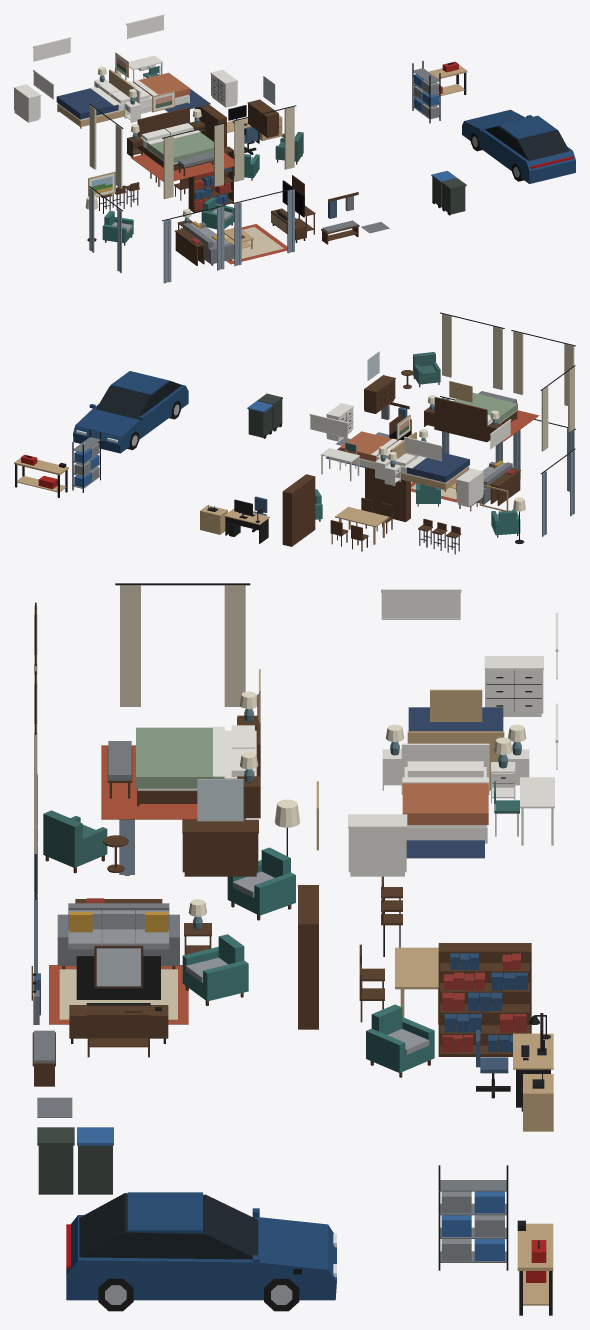
The model's file is furniture.glb.
3 renders of one model, top to bottom at view 1: azimuth 30°, elevation 25°; view 2: azimuth 150°, elevation 25°; view 3: azimuth 270°, elevation 25°, orthographic. The views are drawn at different scales.
Visible parts, largest first — view 1: Furn_living, Furn_car, Furn_curtains_1, Furn_bed_1, Furn_bed_2, Furn_hall, Furn_bookcase, Furn_bed_3, Furn_shelving, Furn_bins, Furn_blinds_2, Furn_rug_1 (+19 smaller); view 2: Furn_car, Furn_curtains_1, Furn_living, Furn_bed_1, Furn_dining, Furn_bed_2, Furn_study_bookcase, Furn_bookcase, Furn_shelving, Furn_bins, Furn_workbench, Furn_bed_3 (+15 smaller); view 3: Furn_car, Furn_living, Furn_study_bookcase, Furn_bed_3, Furn_bed_1, Furn_curtains_1, Furn_hall, Furn_shelving, Furn_bins, Furn_dresser_1, Furn_dining, Furn_dresser_3 (+19 smaller).
Part boxes in pixels (left/top/right/bottom): Furn_living: left=88, top=171, right=296, bottom=283; Furn_car: left=462, top=109, right=575, bottom=183; Furn_curtains_1: left=89, top=103, right=296, bottom=198; Furn_bed_1: left=137, top=107, right=213, bottom=170; Furn_bed_2: left=56, top=69, right=134, bottom=128; Furn_hall: left=292, top=175, right=389, bottom=244; Furn_bookcase: left=188, top=146, right=233, bottom=212; Furn_bed_3: left=118, top=72, right=190, bottom=113; Furn_shelving: left=412, top=61, right=440, bottom=123; Furn_bins: left=431, top=170, right=466, bottom=215; Furn_blinds_2: left=33, top=37, right=71, bottom=99; Furn_rug_1: left=130, top=152, right=234, bottom=181; Furn_car: left=73, top=371, right=188, bottom=453; Furn_curtains_1: left=440, top=312, right=575, bottom=451; Furn_living: left=411, top=396, right=575, bottom=536; Furn_bed_1: left=434, top=392, right=517, bottom=441; Furn_dining: left=330, top=497, right=461, bottom=554; Furn_bed_2: left=391, top=432, right=469, bottom=491; Furn_study_bookcase: left=282, top=474, right=315, bottom=546; Furn_bookcase: left=365, top=467, right=410, bottom=521; Furn_shelving: left=72, top=429, right=100, bottom=492; Furn_bins: left=247, top=393, right=282, bottom=438; Furn_workbench: left=14, top=454, right=68, bottom=497; Furn_bed_3: left=339, top=431, right=412, bottom=469; Furn_car: left=66, top=1192, right=336, bottom=1311; Furn_living: left=34, top=774, right=318, bottom=1024; Furn_study_bookcase: left=438, top=943, right=531, bottom=1056; Furn_bed_3: left=401, top=743, right=489, bottom=843; Furn_bed_1: left=136, top=694, right=260, bottom=806; Furn_curtains_1: left=34, top=583, right=250, bottom=853; Furn_hall: left=31, top=945, right=150, bottom=1117; Furn_shelving: left=438, top=1165, right=508, bottom=1270; Furn_bins: left=37, top=1127, right=113, bottom=1194; Furn_dresser_1: left=182, top=819, right=258, bottom=876; Furn_dining: left=359, top=876, right=438, bottom=1024; Furn_dresser_3: left=348, top=814, right=407, bottom=876.
Bounding box in the file's own units: 17.81 × 5.66 × 9.06.
